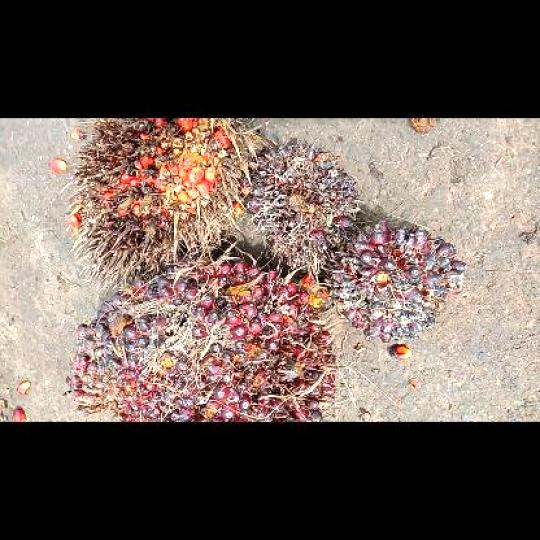masak: (63, 257, 342, 421)
terlalu masak: (62, 118, 263, 297)
